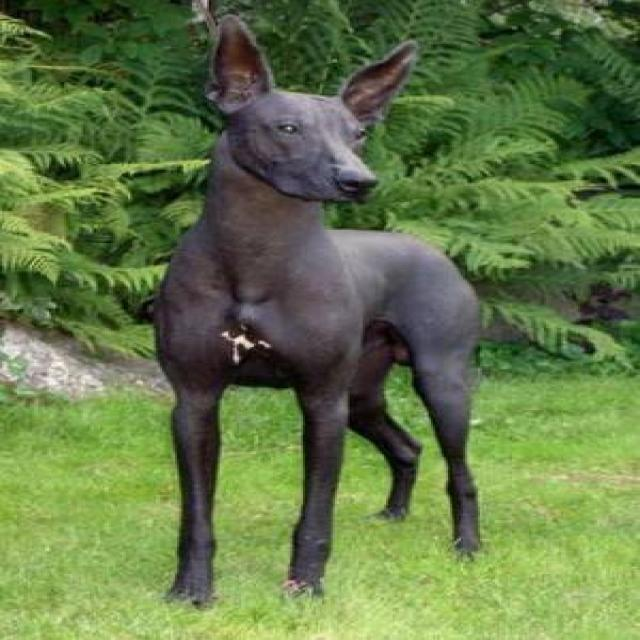dog: (128, 0, 499, 287)
